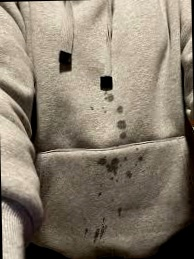oil: (81, 225, 112, 242), (99, 155, 122, 175), (103, 95, 121, 108), (118, 120, 129, 140), (88, 105, 100, 119), (116, 106, 126, 119), (118, 204, 124, 217), (126, 170, 134, 178), (139, 157, 145, 164), (99, 190, 105, 197), (131, 148, 138, 153)
